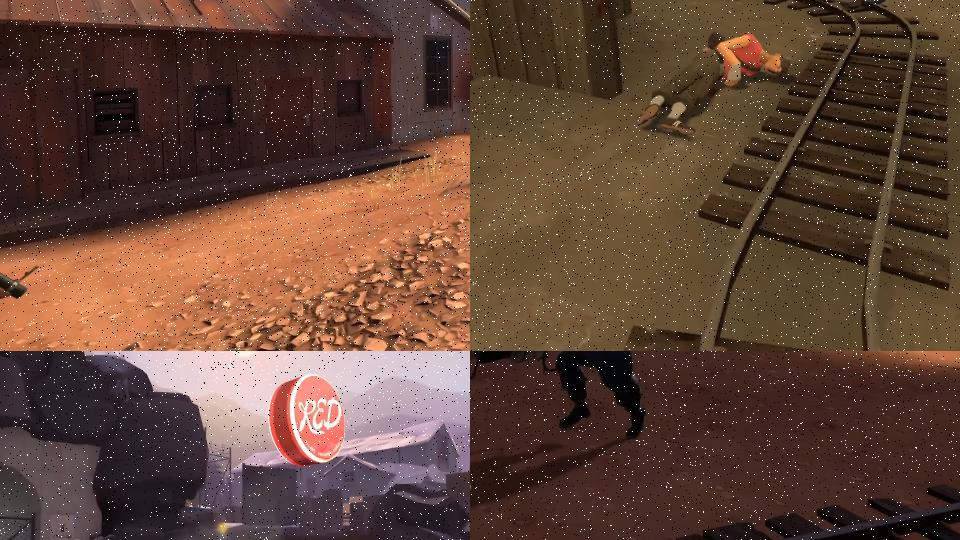Enemy: (470, 351, 655, 445), (636, 29, 791, 129)
